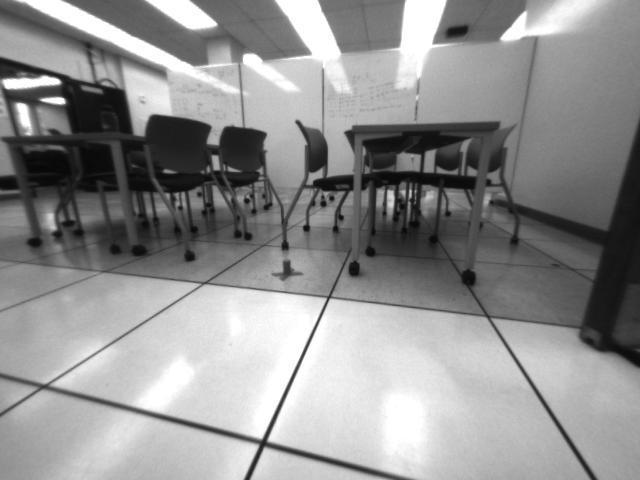x: (272, 255, 306, 284)
